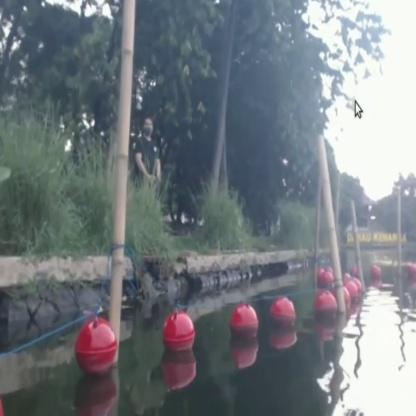red_buoy: (75, 316, 116, 376), (164, 313, 194, 353), (230, 304, 257, 343), (270, 296, 296, 332), (316, 292, 338, 324), (350, 274, 362, 304), (368, 258, 380, 286), (344, 286, 351, 314)
